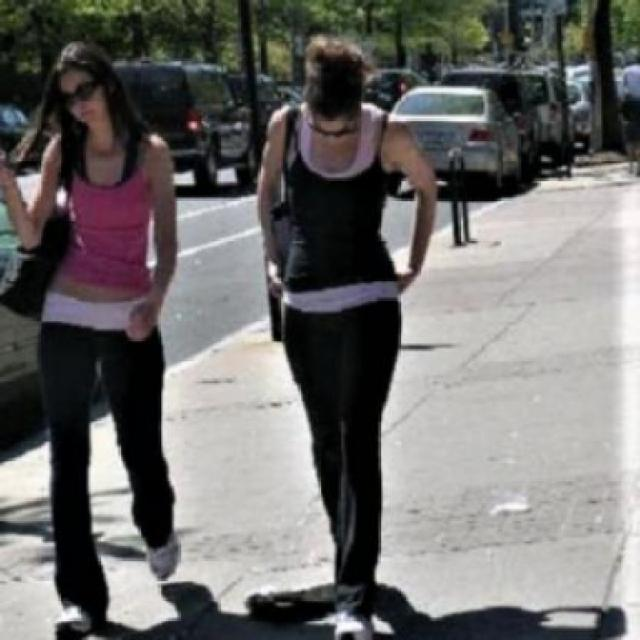obstacle: (0, 27, 189, 638), (253, 39, 441, 638)
